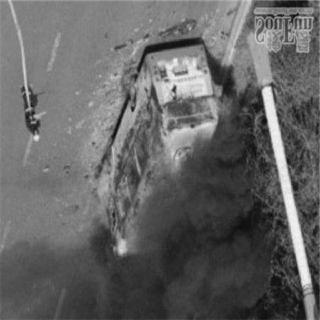Fire: (166, 82, 234, 140)
